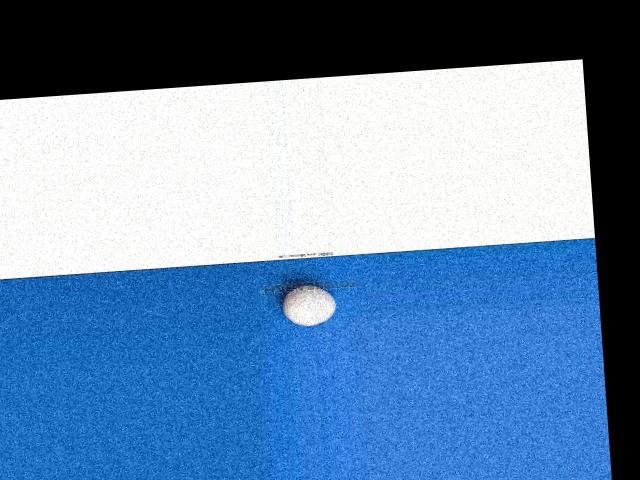egg: (280, 282, 336, 326)
